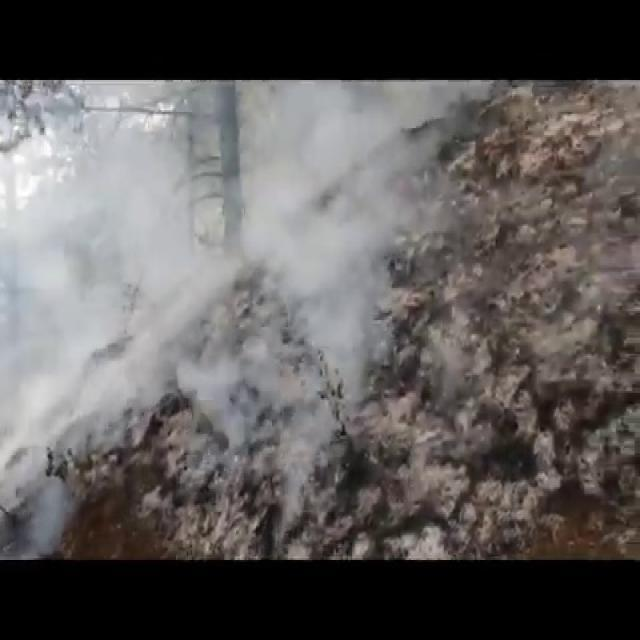Smoke: (0, 81, 477, 522)
